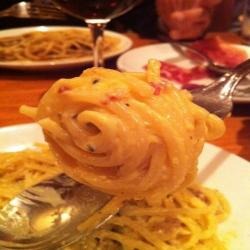carbonara: (27, 63, 229, 250)
